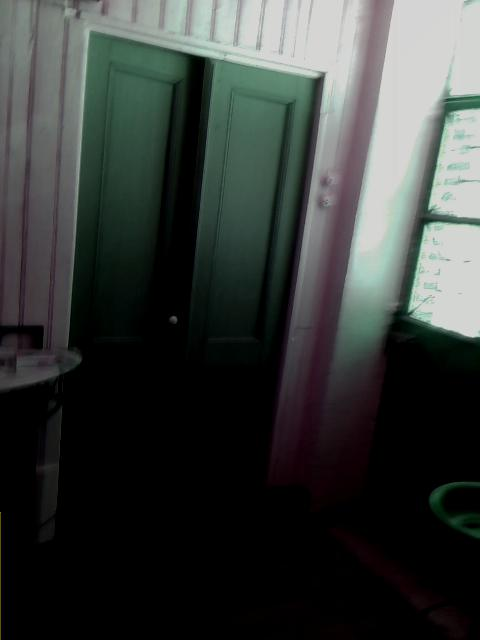closed_door: (51, 28, 327, 547)
